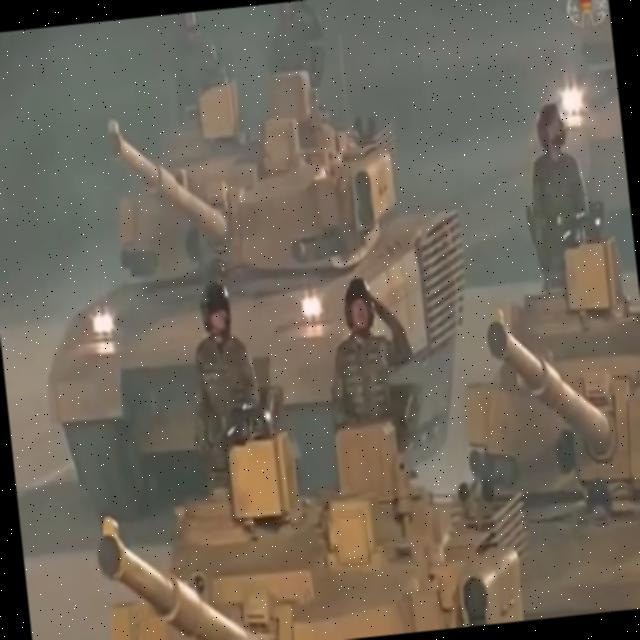north tank: (1, 0, 493, 541), (19, 388, 574, 640), (431, 216, 640, 626)
